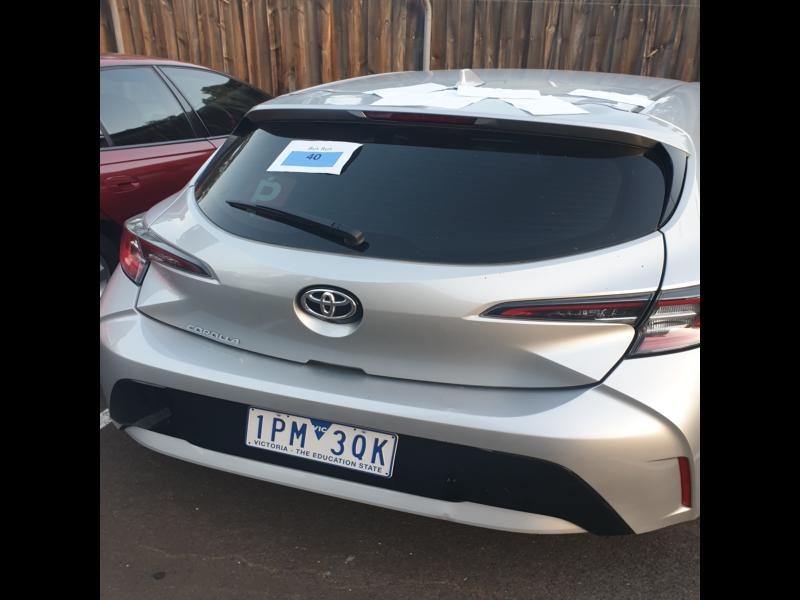BusRun: (279, 151, 343, 170)
PlateNo: (241, 405, 400, 477)
